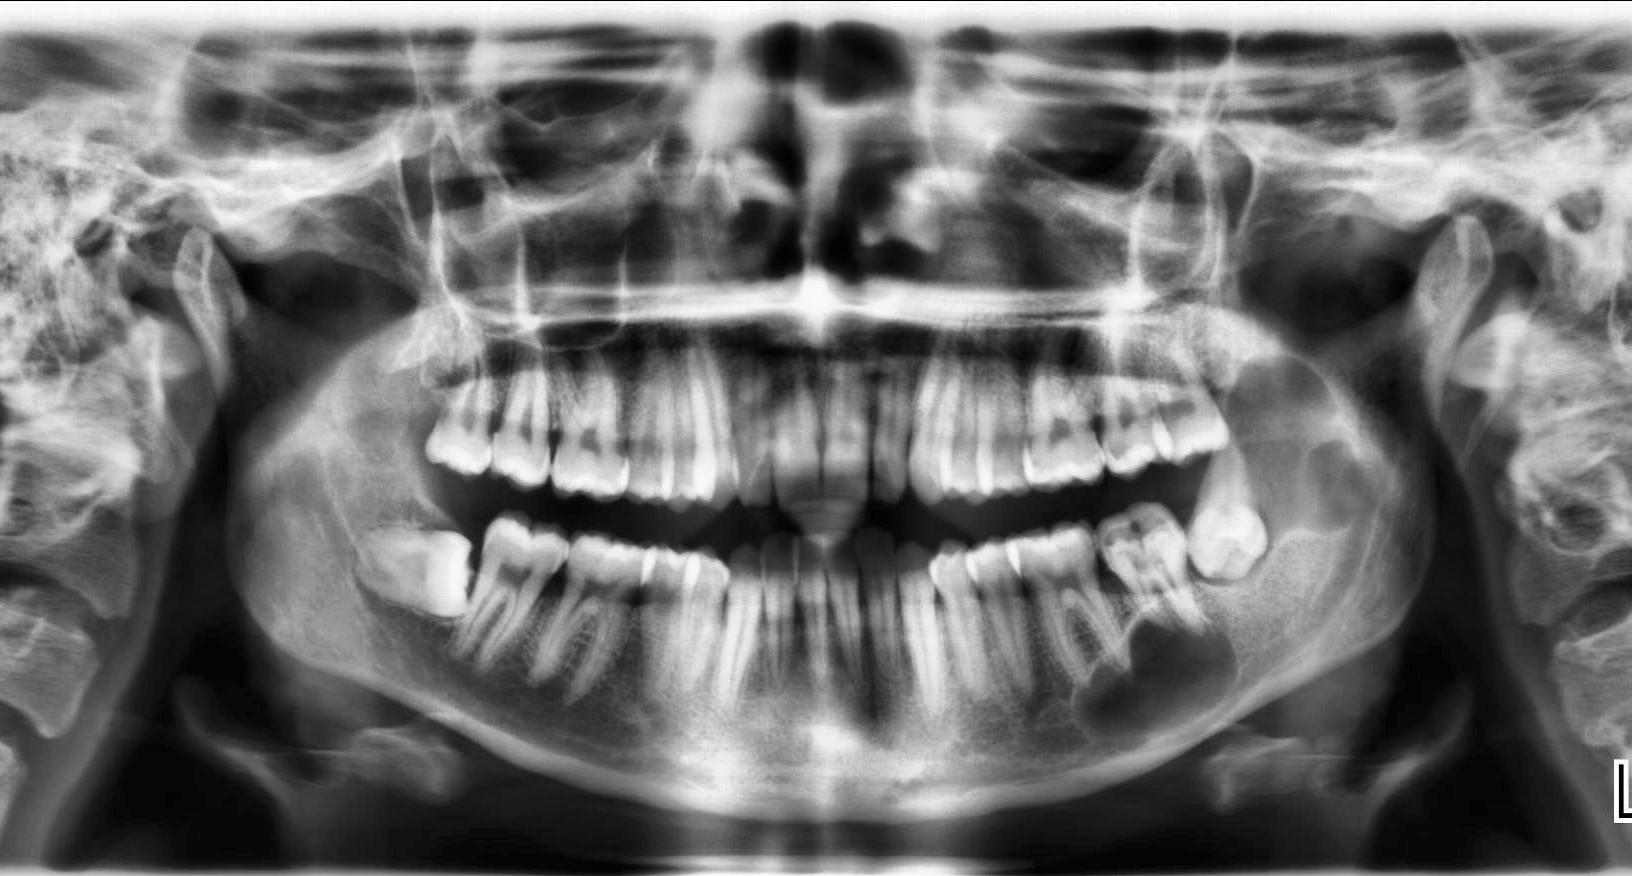keratokist: (1225, 348, 1371, 584), (1069, 594, 1242, 756)
